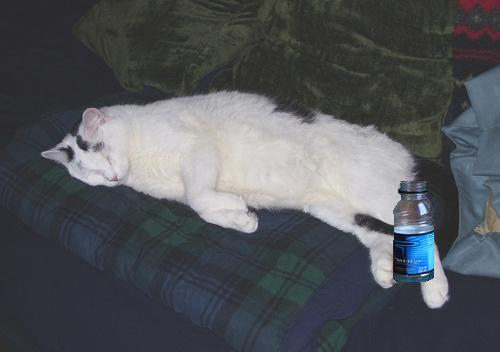tampered: (394, 182, 435, 282)
